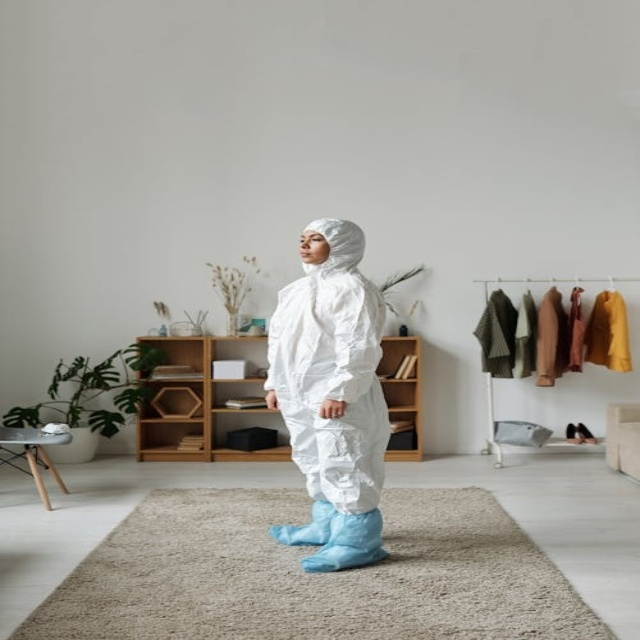Sin_gafas: (298, 232, 328, 244)
Sin_guantes: (317, 396, 348, 421), (261, 387, 284, 411)
Sin_mascara: (297, 249, 324, 261)
